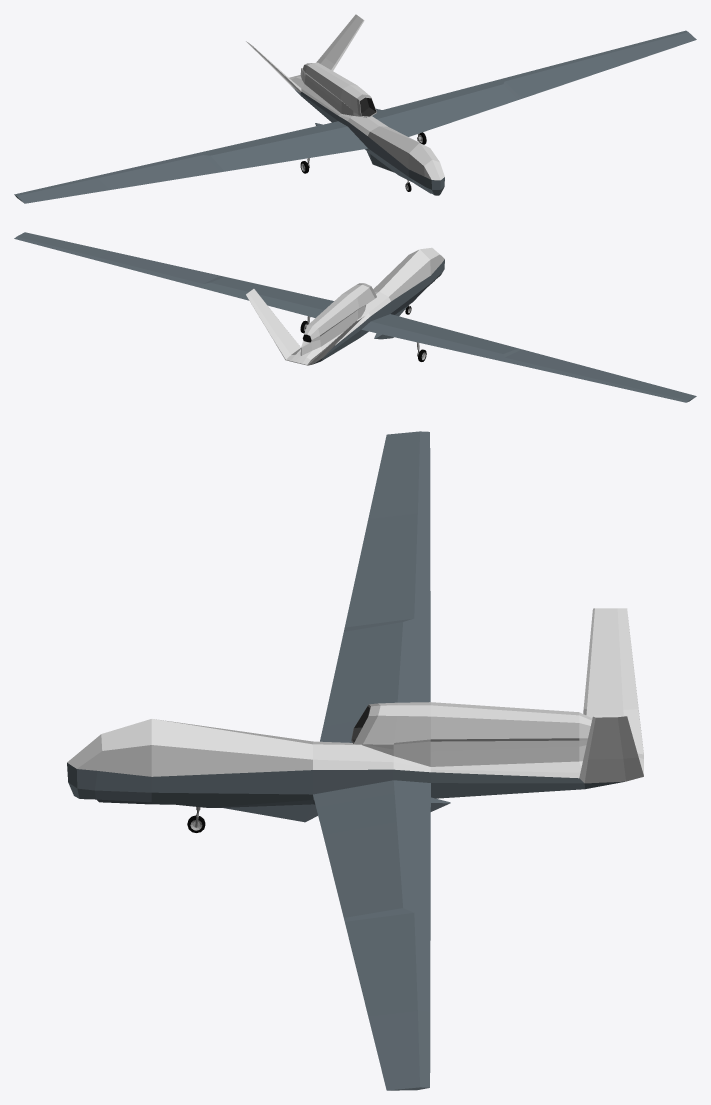
3 renders of one model, top to bottom at view 1: azimuth 30°, elevation 25°; view 2: azimuth 150°, elevation 25°; view 3: azimuth 270°, elevation 25°, orthographic. The views are drawn at different scales.
Visible parts, largest first — view 1: Circle.011, Circle.020, Circle.013, Circle.019, Circle.014; view 2: Circle.011, Circle.013, Circle.020, Circle.019, Circle.014; view 3: Circle.011, Circle.020, Circle.013, Circle.014, Circle.019, Circle.021.
Boxes of the visible parts, x1,y1,x2,y2 form: Circle.011: (14,16,696,203); Circle.020: (406,80,502,108); Circle.013: (204,131,302,155); Circle.019: (501,52,607,81); Circle.014: (95,153,202,177); Circle.011: (14,232,696,402); Circle.013: (406,332,502,359); Circle.020: (204,282,301,312); Circle.019: (95,257,202,287); Circle.014: (501,357,607,384); Circle.011: (67,431,643,1090); Circle.020: (397,822,430,909); Circle.013: (397,622,430,702); Circle.014: (414,513,430,619); Circle.019: (414,912,430,1011); Circle.021: (617,608,638,709).
Size of the model in its own units: 3843 by 466 by 1429.
